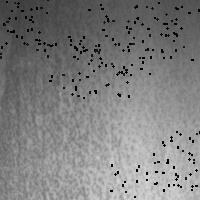pitted_surface: (1, 1, 193, 196), (71, 38, 131, 97), (145, 2, 200, 59), (98, 15, 149, 73), (82, 0, 142, 46), (49, 36, 100, 90), (153, 131, 200, 189), (0, 0, 47, 56), (110, 161, 168, 200)
